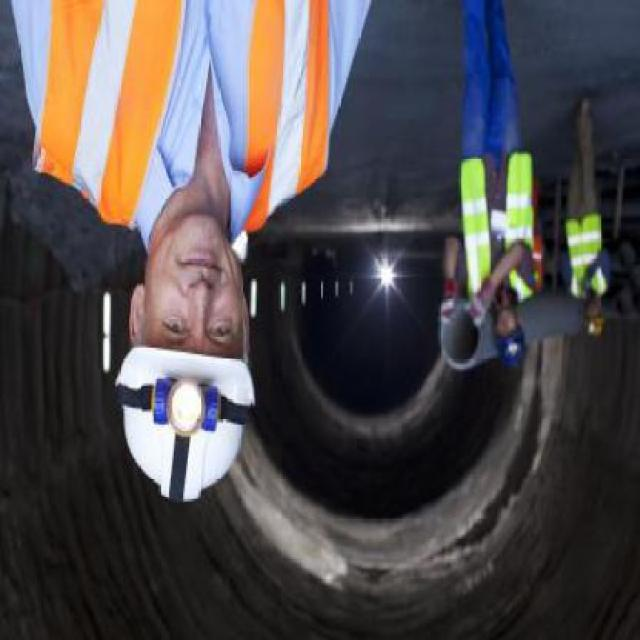safetyhelmet: (117, 346, 253, 500), (494, 326, 526, 365), (585, 315, 604, 335)
